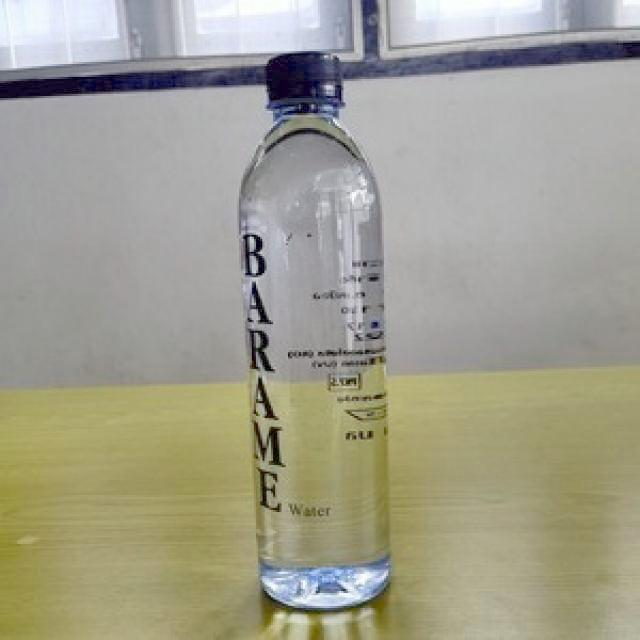bottle: (237, 51, 392, 612)
